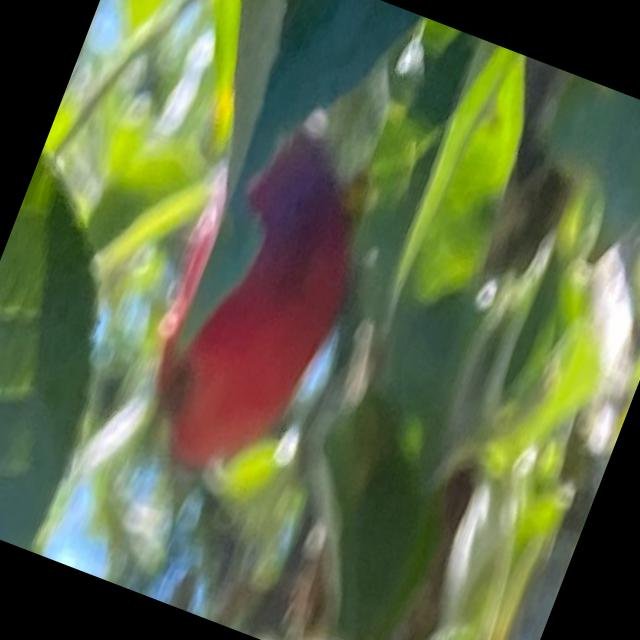Apples: (115, 104, 397, 499)
